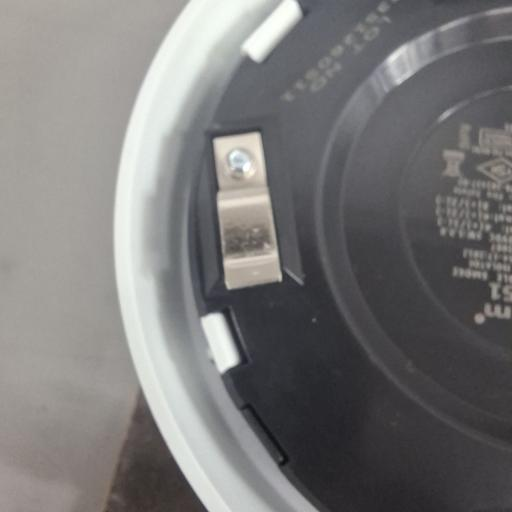yaysiz: (209, 128, 283, 292)
